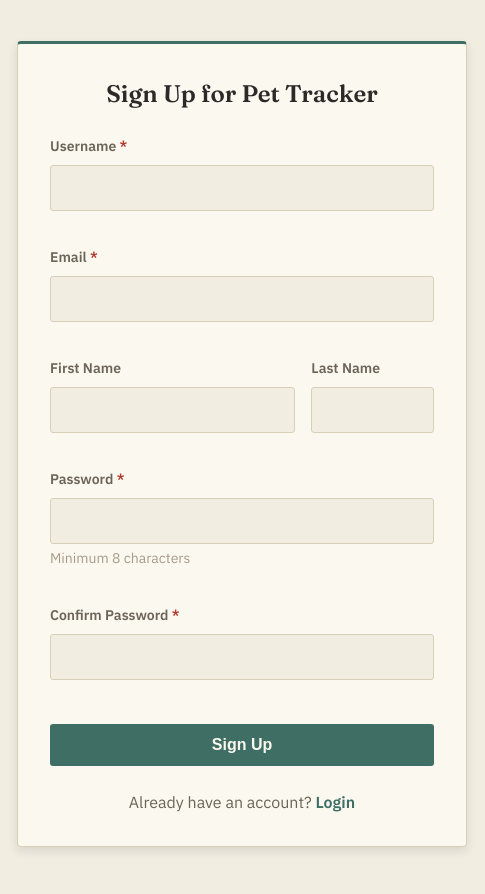
Test: Signup Component › displays validation errors
In the field labelled "Username *": (242, 188) [50,165,434,211], type "existinguser"
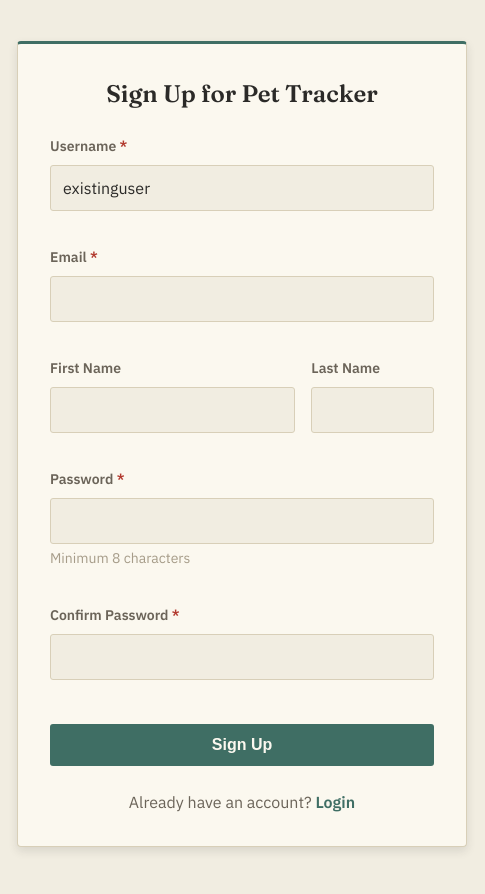
In the field labelled "Email *": (242, 299) [50,276,434,322], type "test@example.com"
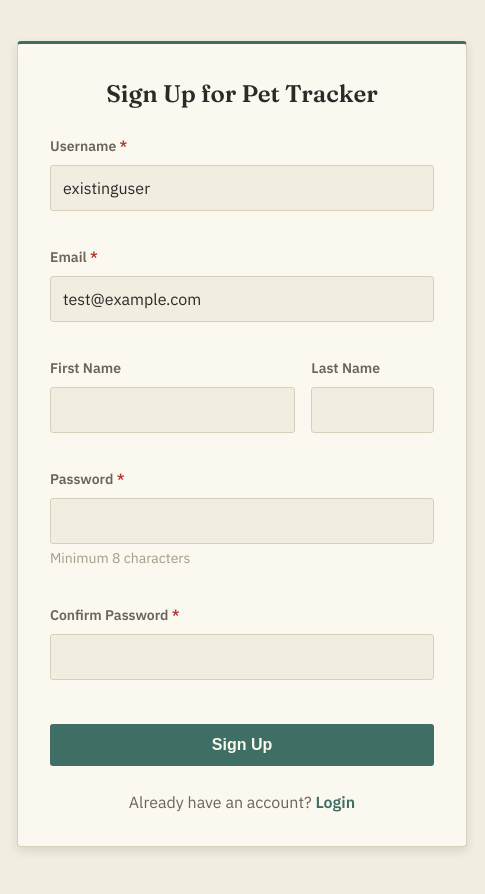
In the password field labelled "Password *": (242, 521) [50,498,434,544], type "short"
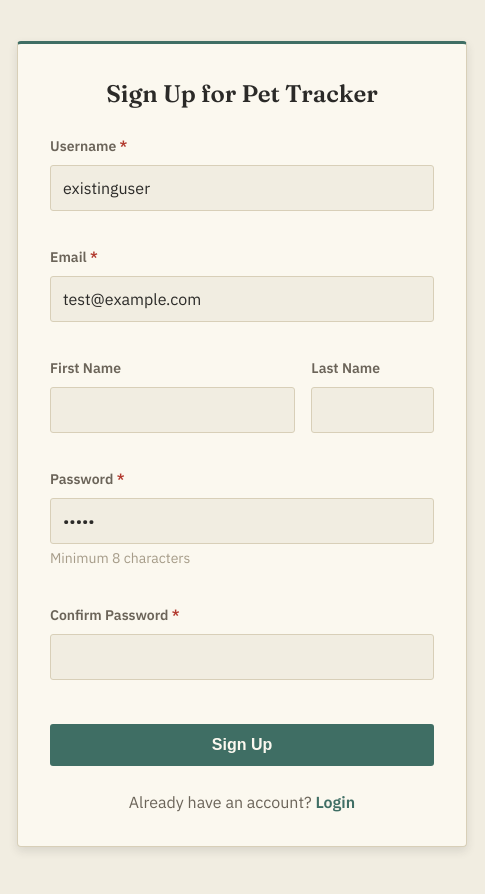
In the password field labelled "Confirm Password *": (242, 657) [50,634,434,680], type "short"
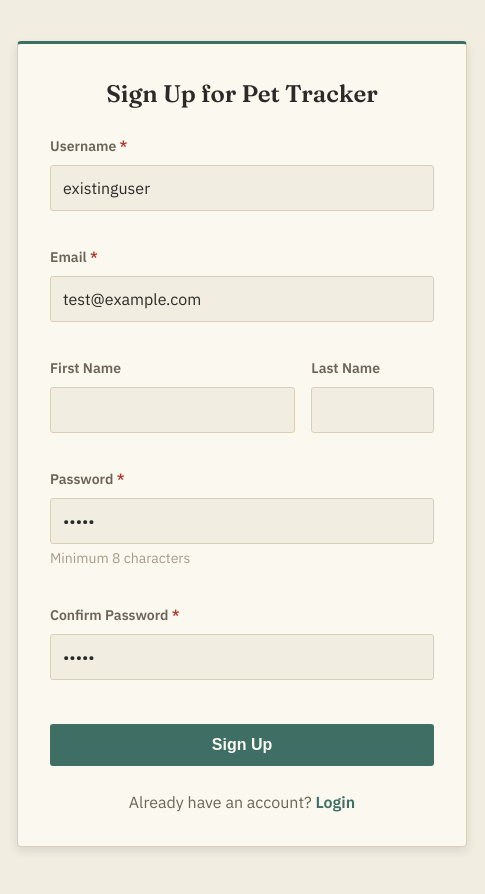
Click the button "Sign Up": (242, 745) [50,724,434,766]
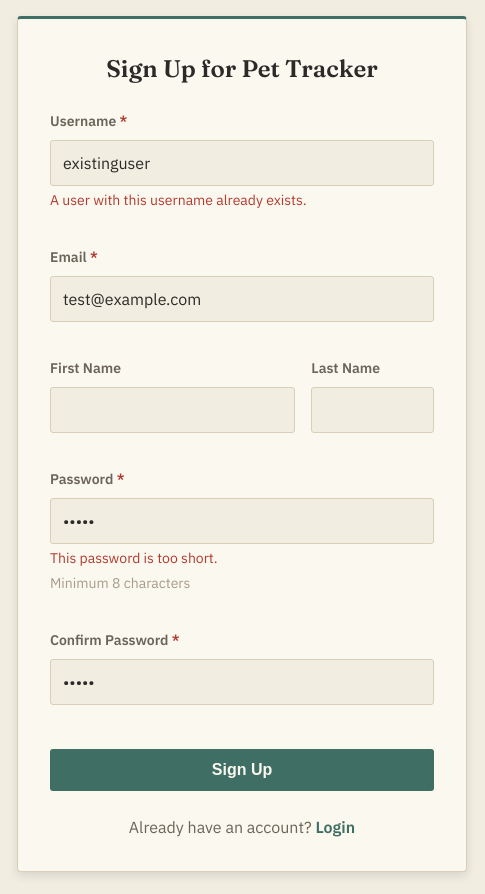
Now the text "A user with this username already exists." is shown, box [50,191,307,209]
Now the text "This password is too short." is shown, box [50,549,218,567]
